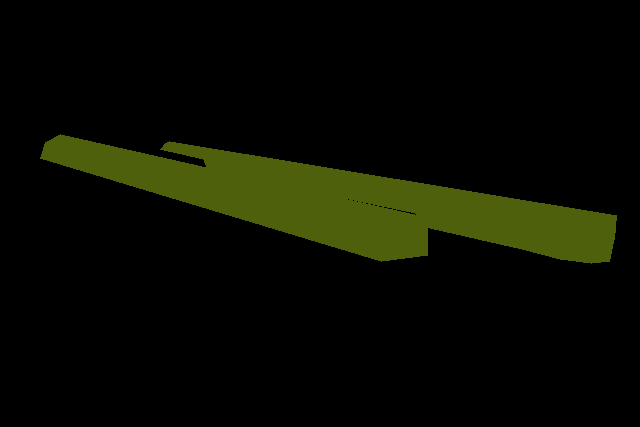Train: (160, 141, 616, 264), (40, 134, 427, 261), (204, 157, 420, 215)
